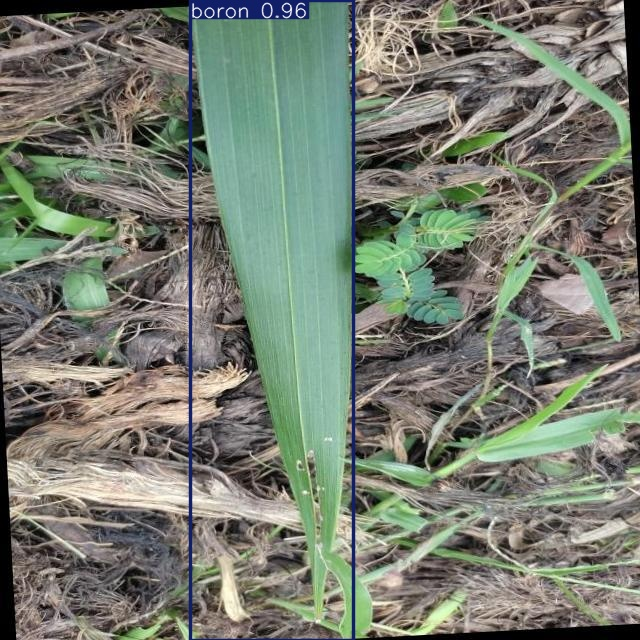nitrogen: (190, 1, 354, 640)
